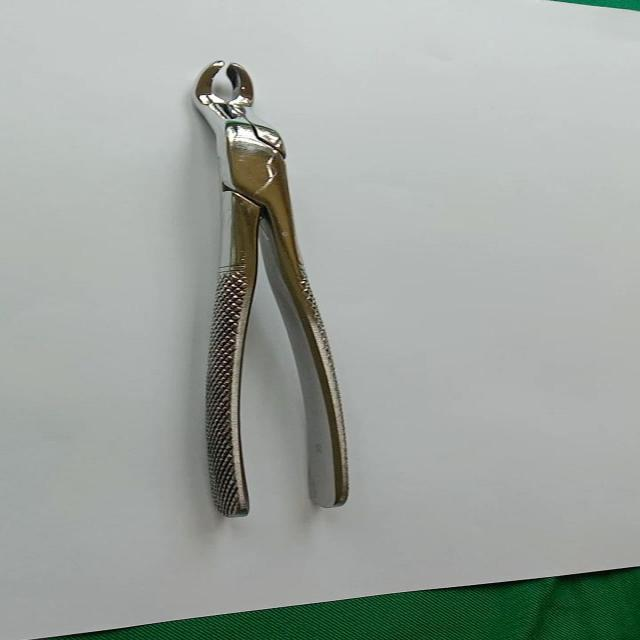BayonetForcep: (184, 53, 362, 525)
